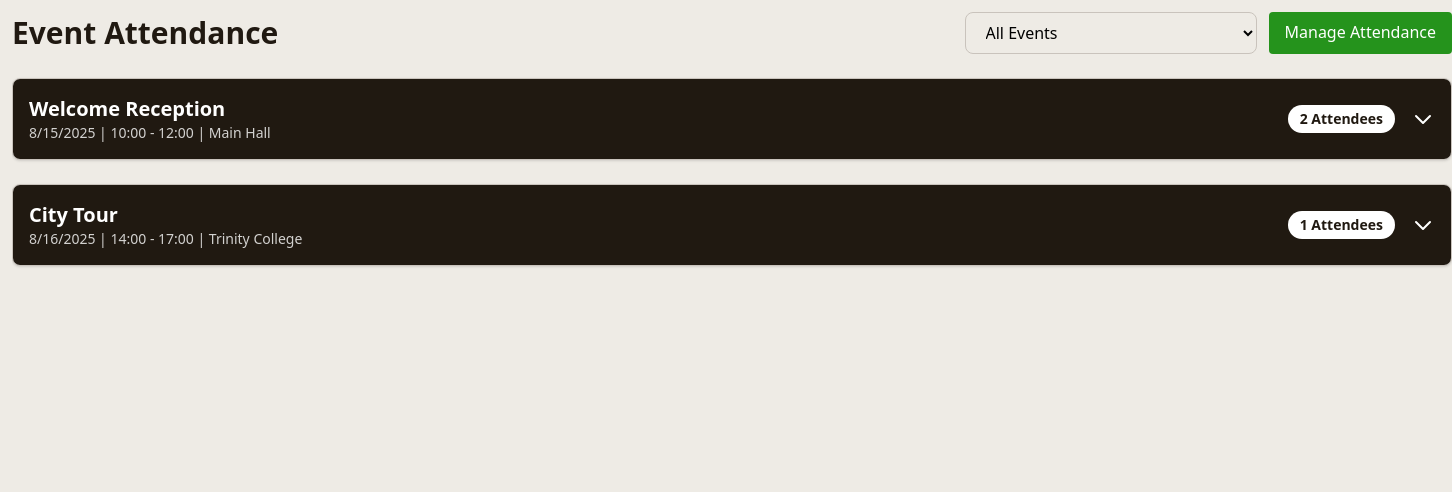
Admin Event Attendance Page › should collapse event when clicked again
This screenshot has width=1452, height=492.
expect the heading "Welcome Reception" is shown: met, box [29,95,225,122]
// Expand the first event
Click the button "Welcome Reception".
click(127, 108)  # box [13,79,1451,159]
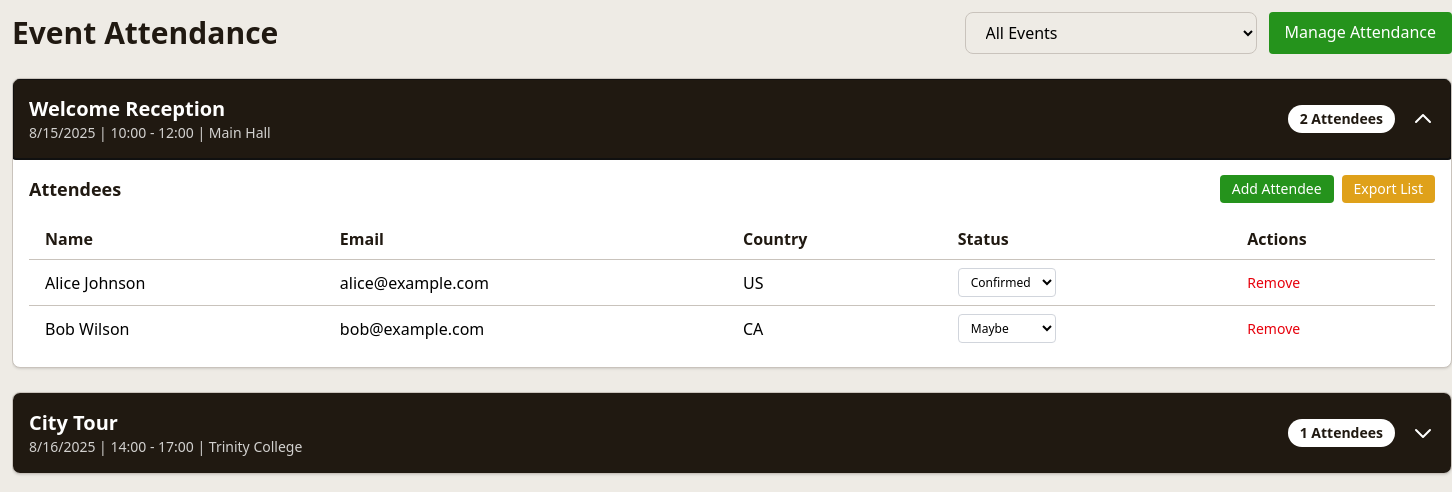
expect the text "Alice Johnson" is shown: met, box [29,260,324,306]
// Click again to collapse
Click the button "Welcome Reception".
click(127, 108)  # box [13,79,1451,159]
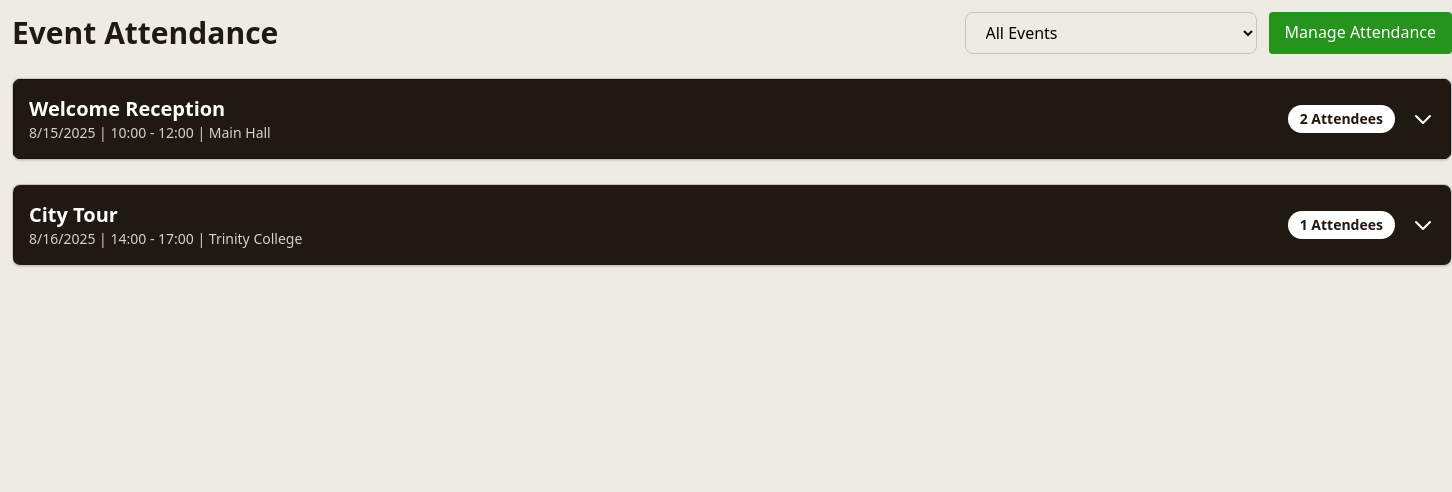
expect the text "Alice Johnson" is gone: met
